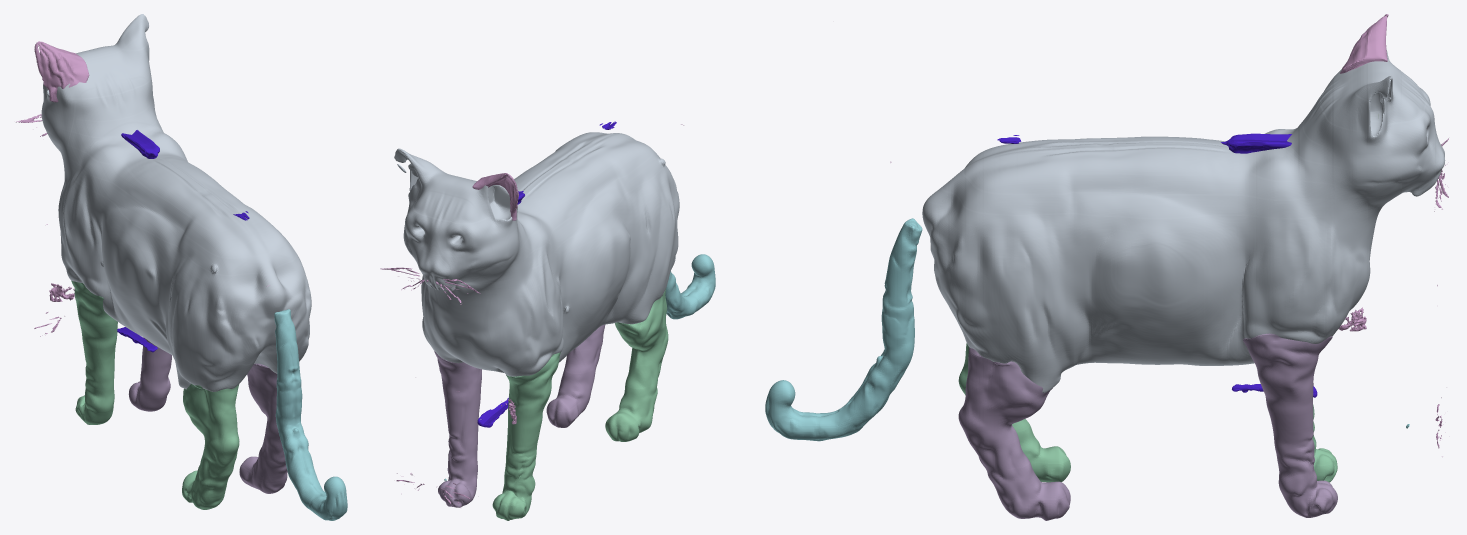
Rendered from parts_1778000402.glb.
The picture shows the model from 3 angles, left to right: view 1: azimuth 30°, elevation 25°; view 2: azimuth 150°, elevation 25°; view 3: azimuth 270°, elevation 25°; orthographic projection. The views are drawn at different scales.
Parts seen in each view (by area): view 1: world; view 2: world; view 3: world.
Part boxes in pixels (bbox=[...]): world: bbox=[16, 14, 347, 520]; world: bbox=[380, 121, 715, 520]; world: bbox=[765, 14, 1448, 520].
Bounding box in the file's own units: 0.5257 × 1.43 × 1.98.
